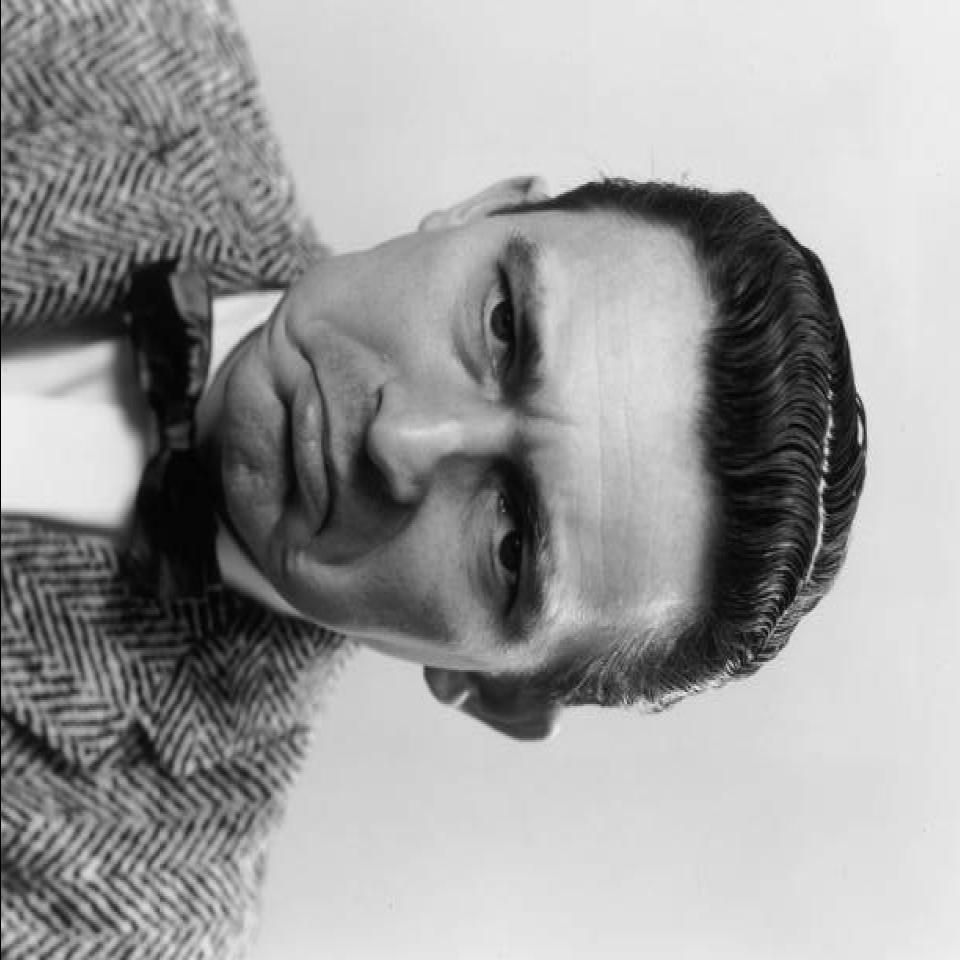Sadness: (218, 180, 719, 736)
